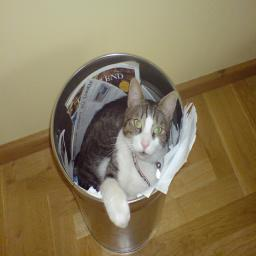catnose: (139, 137, 151, 152)
